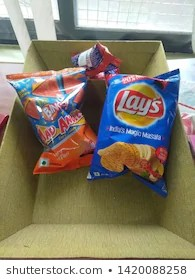lays-small: (80, 64, 183, 194)
